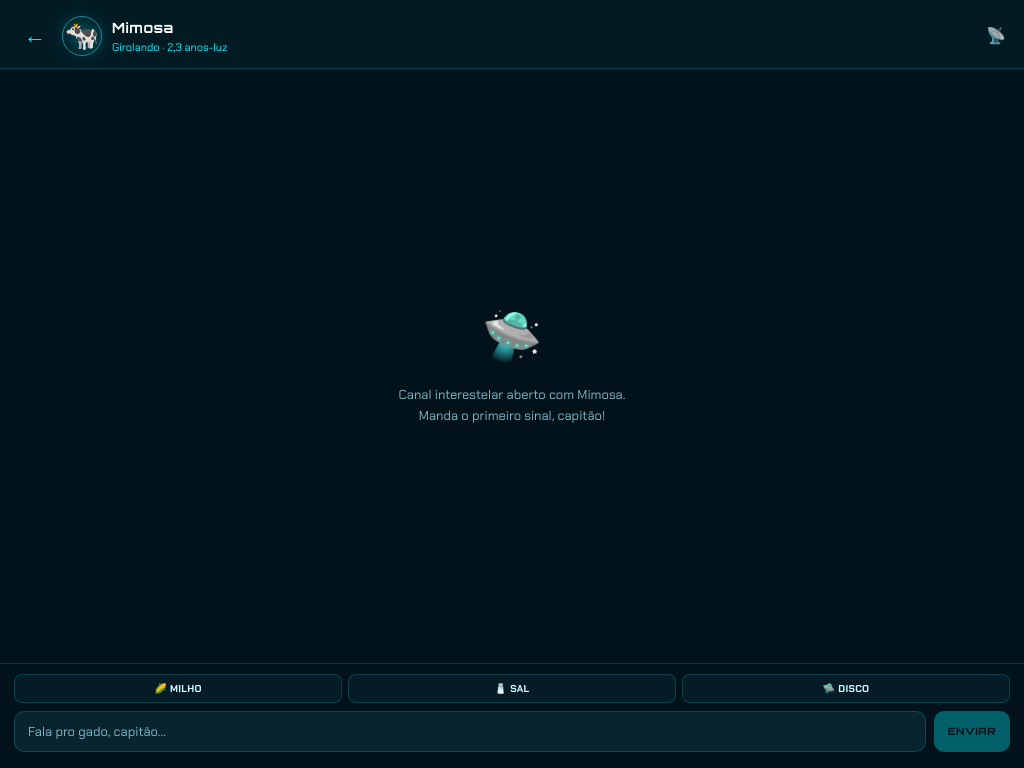
ChatModal › bolha da vaca aparece após resposta, com mugido e tradução separados
This screenshot has width=1024, height=768.
Type "Olá Mimosa!" into the field with placeholder "Fala pro gado, capitão..." at (470, 731), box [14,710,926,752]
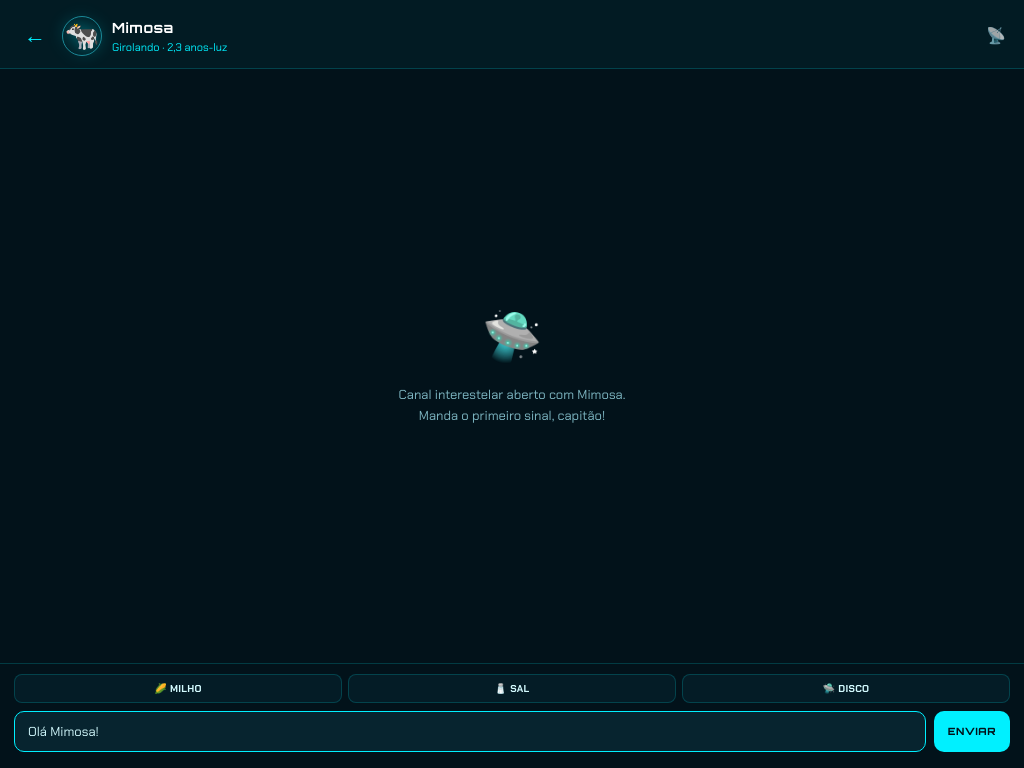
Click the button "ENVIAR" at (972, 731), box [934,710,1010,752]
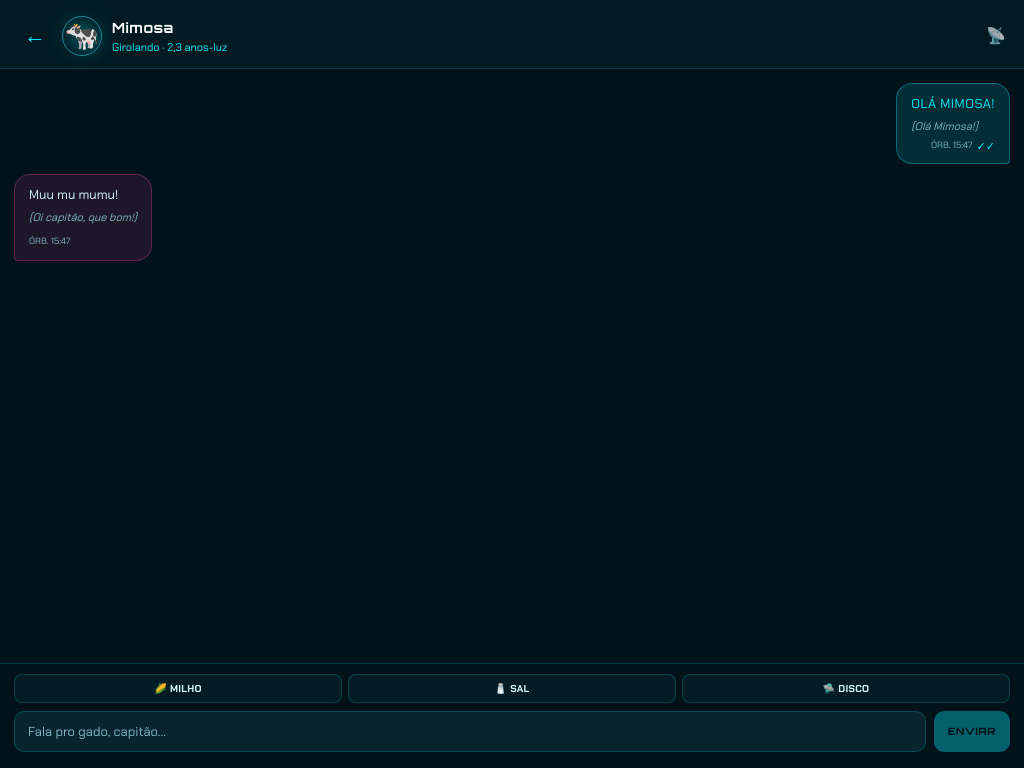
Now the text "Muu mu mumu!" is shown, box [29,186,118,203]
Now the text "(Oi capitão, que bom!)" is shown, box [29,209,137,226]
